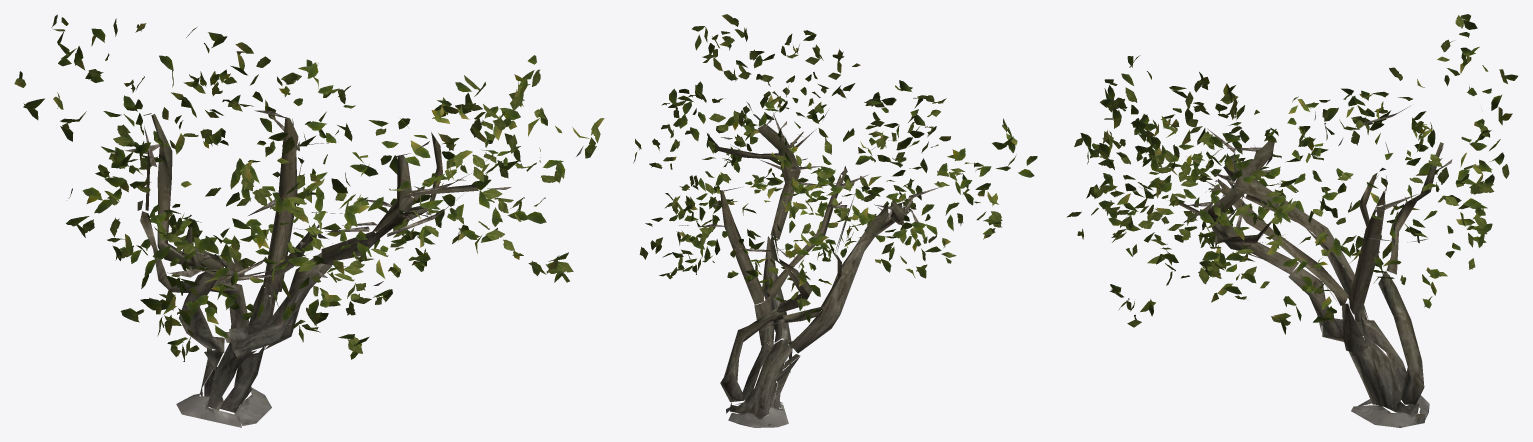
Rendered from veg-tree-shade-b-lod1-8dbeabd56524.glb.
The picture shows the model from 3 angles, left to right: view 1: azimuth 30°, elevation 25°; view 2: azimuth 150°, elevation 25°; view 3: azimuth 270°, elevation 25°; orthographic projection. The views are drawn at different scales.
Visible parts, largest first — view 1: veg-tree-shade-b_lod1; view 2: veg-tree-shade-b_lod1; view 3: veg-tree-shade-b_lod1.
Boxes of the visible parts, x1,y1,x2,y2 form: veg-tree-shade-b_lod1: (14,14,604,427); veg-tree-shade-b_lod1: (633,14,1037,427); veg-tree-shade-b_lod1: (1067,14,1517,427).
Size of the model in its own units: 6.03 by 5.4 by 6.43.
3 materials, 3 textured.
